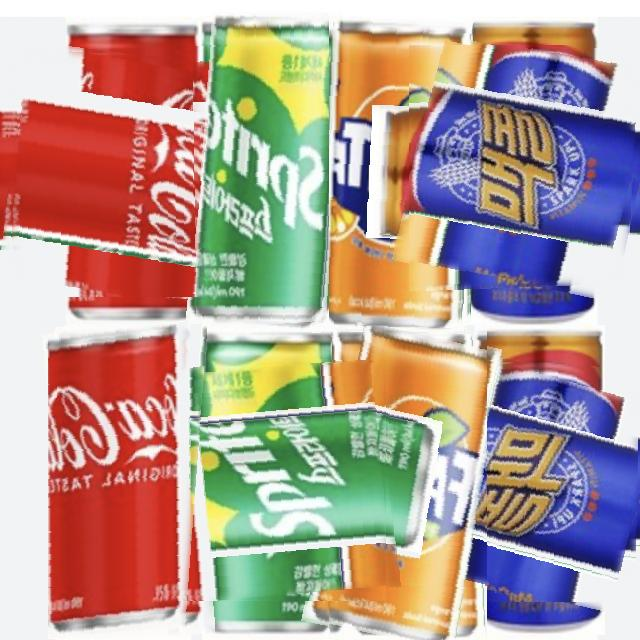recyclable: (4, 48, 254, 297), (409, 45, 640, 292), (148, 363, 386, 601), (413, 357, 640, 602), (316, 325, 487, 640), (48, 324, 208, 640), (192, 12, 342, 330), (329, 11, 472, 331)
